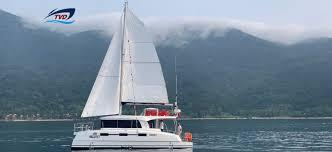Ship: (72, 4, 192, 152)
